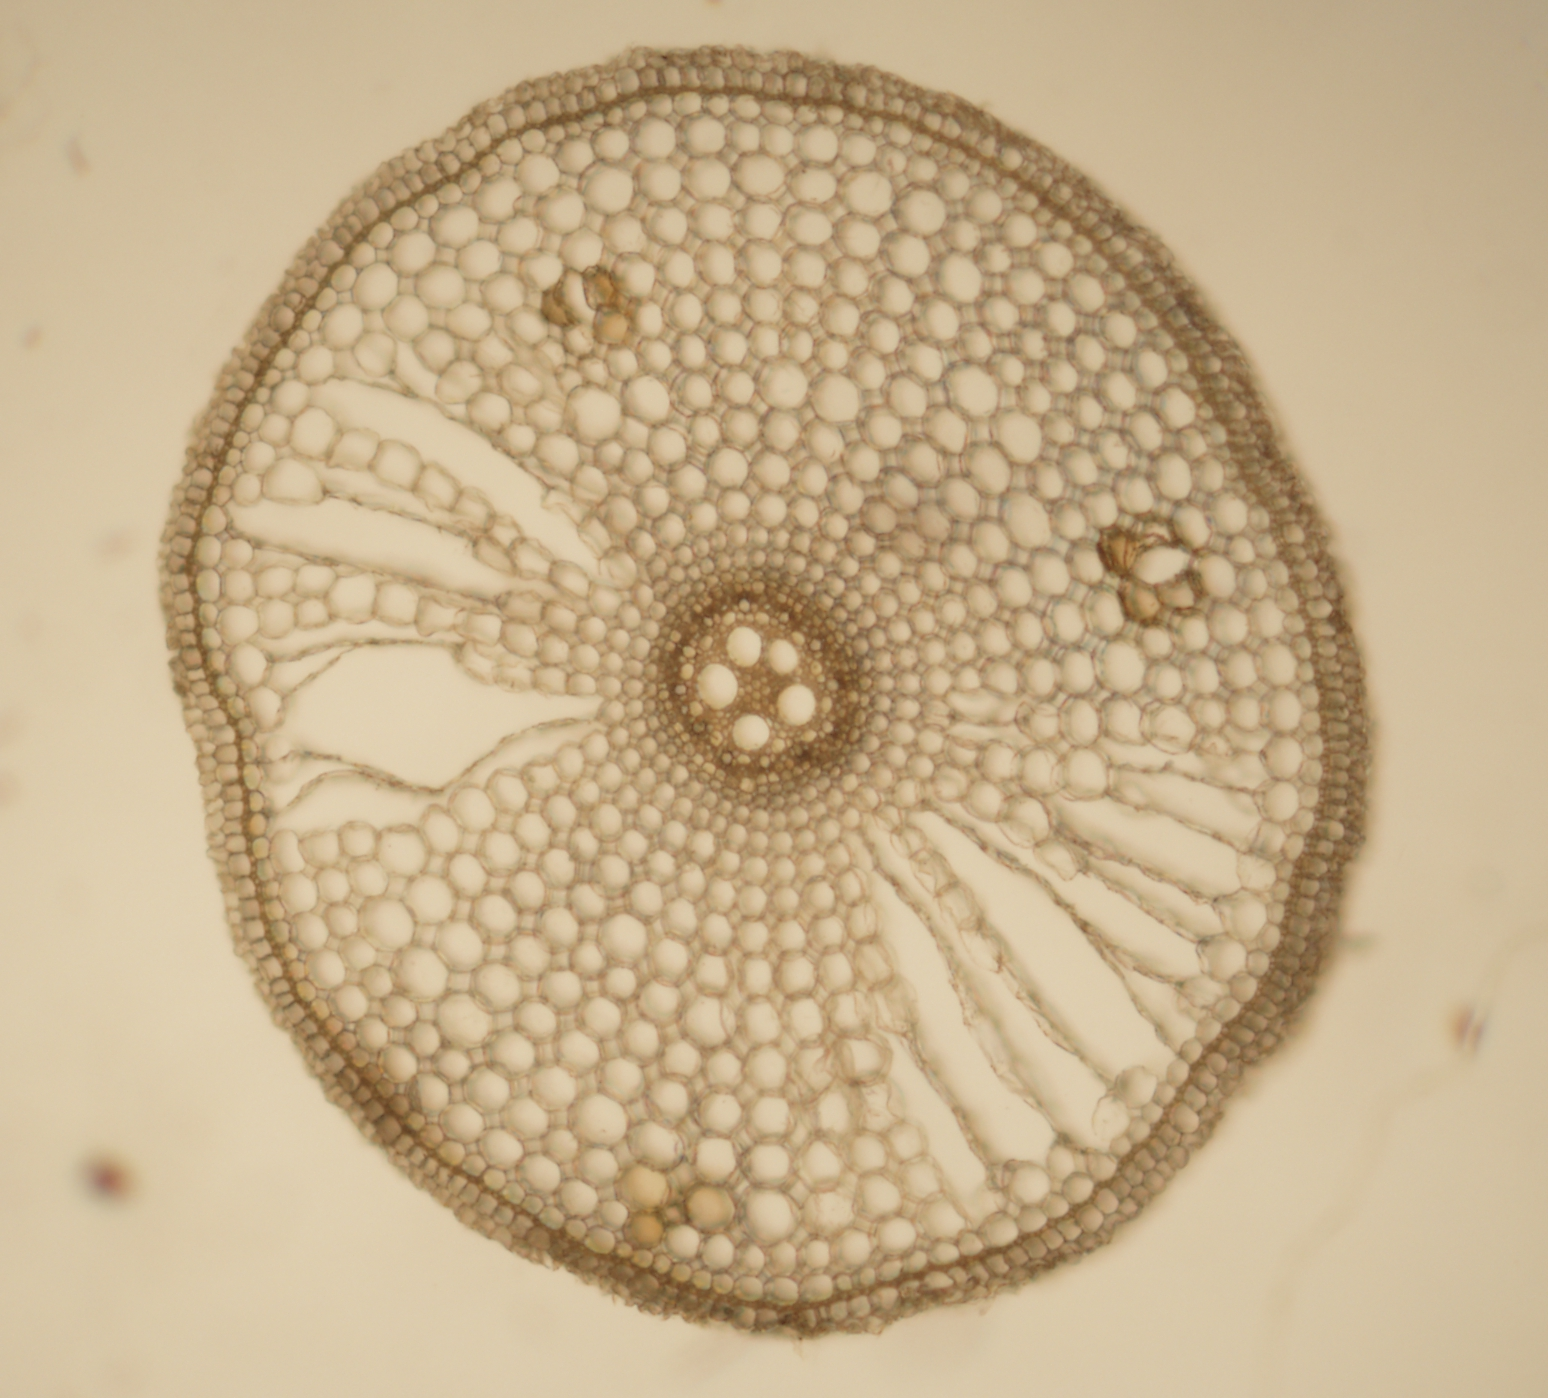lm: (697, 663, 738, 709), (777, 683, 816, 727), (725, 626, 761, 667), (734, 715, 769, 750), (767, 638, 798, 675)
